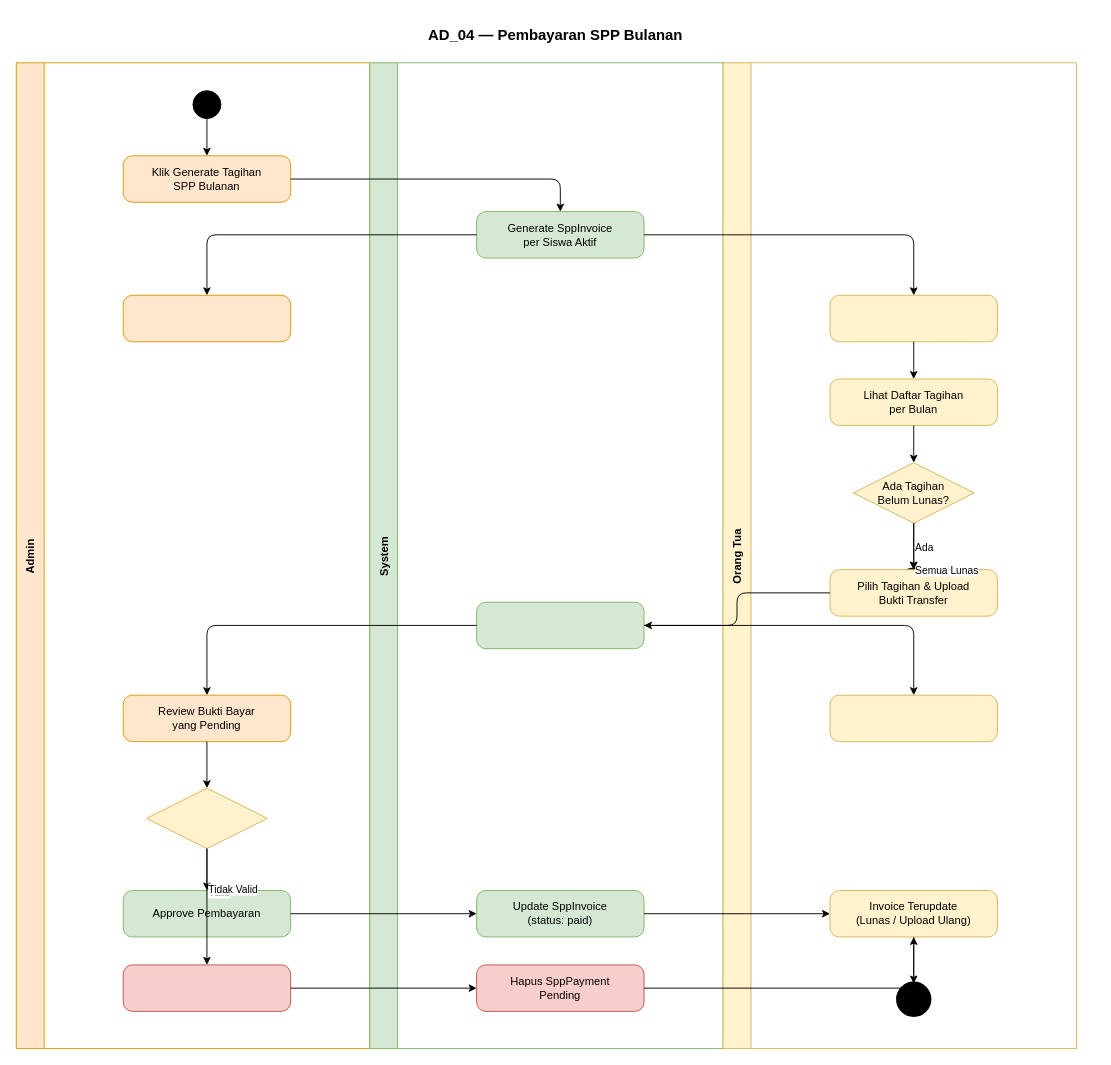
Image size: 1111x1065. Some labels were removed from this diagram. Here are the shapes that lost their labels. From the top down, the centre of each, then its label:
At (x=206, y=318): "Lihat Daftar Tagihan SPP Siswa".
At (x=913, y=318): "Buka Keuangan → SPP Bulanan".
At (x=560, y=625): "Simpan SppPayment (status: pending)".
At (x=913, y=718): "Menunggu Konfirmasi".
At (x=206, y=818): "Bukti Valid?".
At (x=206, y=987): "Reject Pembayaran".
